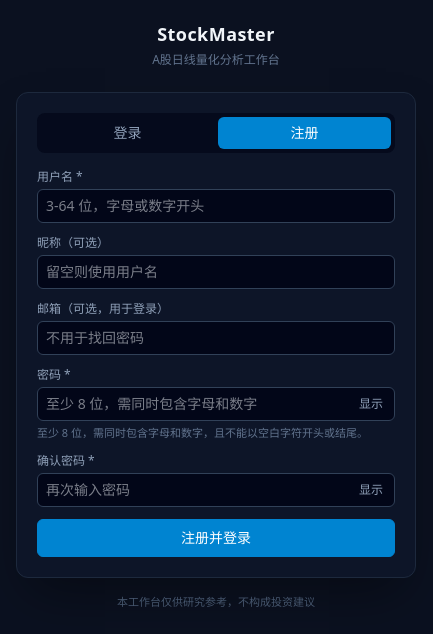
Scenario: 注册表单校验 › 两次密码不一致时提示
This screenshot has width=433, height=634.
Type "alice" into the field labelled "用户名 *" at (216, 206), box top-left (37, 188), bottom-right (395, 222)
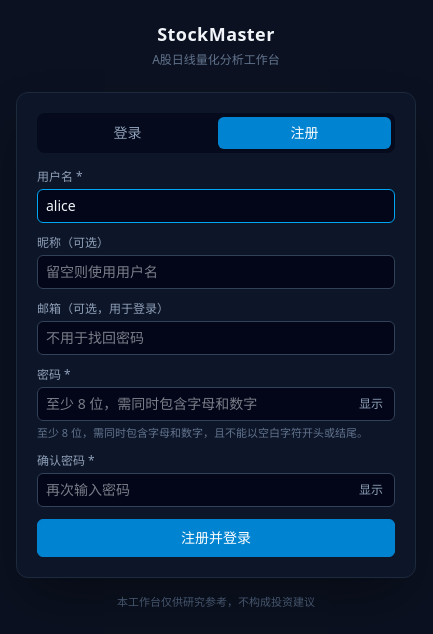
Type "pw123456" into the password field labelled "密码 *" at (216, 404), box top-left (37, 386), bottom-right (395, 420)
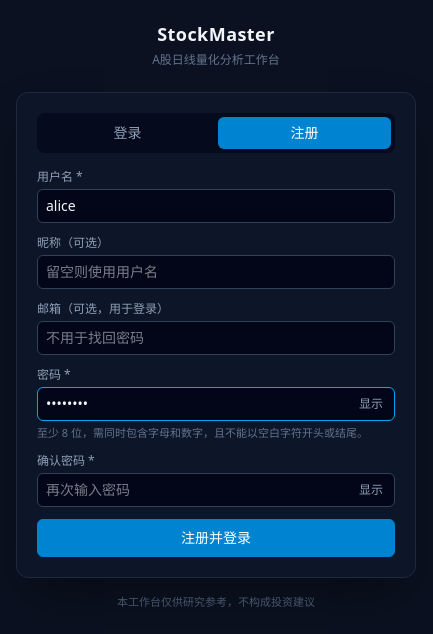
Type "pw123457" into the password field labelled "确认密码 *" at (216, 490), box top-left (37, 473), bottom-right (395, 507)
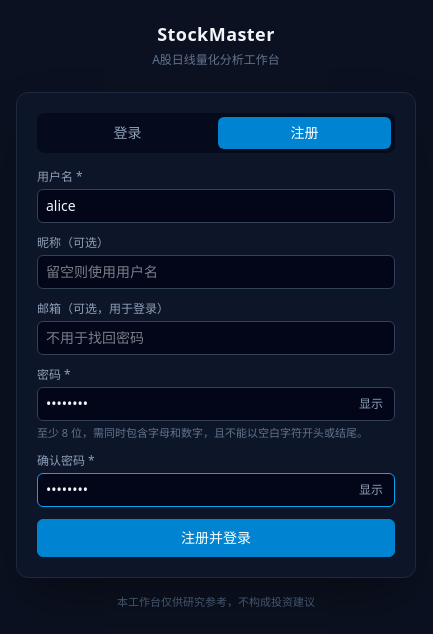
Click the button "注册并登录" at (216, 538), box top-left (37, 519), bottom-right (395, 557)
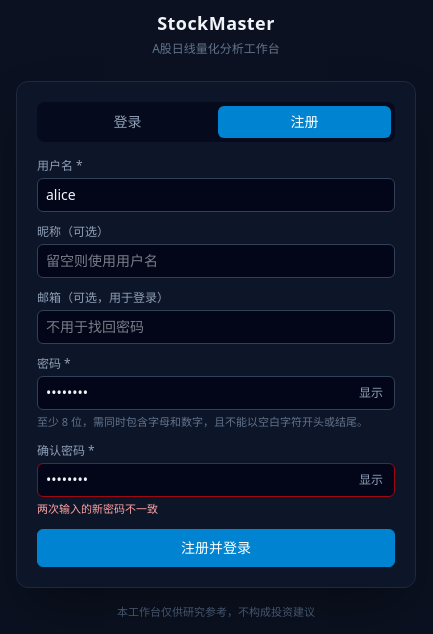
Result: the text "两次输入的新密码不一致" is shown at top-left (37, 501), bottom-right (158, 516)
